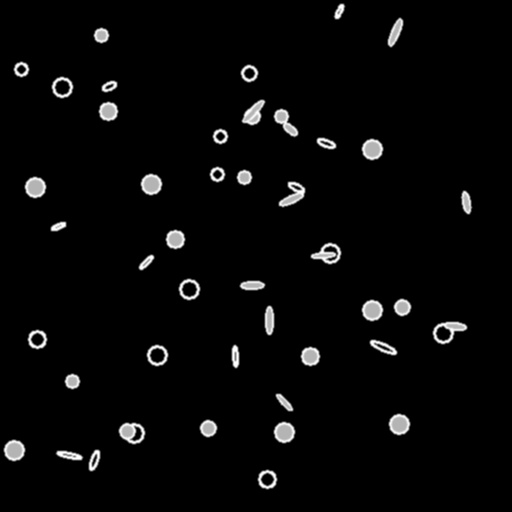pseudomonas: (241, 98, 265, 124), (386, 17, 404, 47), (370, 339, 396, 355), (279, 191, 303, 207), (275, 393, 293, 411), (281, 121, 299, 137), (287, 180, 305, 194), (57, 450, 81, 460), (316, 137, 336, 149), (88, 450, 100, 470), (461, 192, 471, 212), (139, 255, 153, 269), (333, 3, 345, 19), (101, 80, 117, 92), (241, 281, 263, 289), (444, 322, 466, 330), (50, 221, 66, 231), (266, 307, 272, 333), (312, 252, 334, 258), (232, 346, 238, 366)
synechocystis: (180, 280, 198, 298), (5, 441, 23, 459), (125, 424, 143, 442), (363, 301, 381, 319), (390, 415, 408, 433), (53, 78, 71, 96), (142, 175, 160, 193), (148, 346, 166, 364), (321, 244, 339, 262), (26, 178, 44, 196), (363, 140, 381, 158), (275, 423, 293, 441), (434, 324, 452, 342), (259, 471, 275, 487), (167, 231, 183, 247), (100, 103, 116, 119), (29, 331, 45, 347), (302, 348, 318, 364), (245, 109, 259, 123), (201, 421, 215, 435), (120, 424, 134, 438), (395, 300, 409, 314), (242, 66, 256, 80), (214, 130, 226, 142), (275, 110, 287, 122), (95, 29, 107, 41), (15, 63, 27, 75), (211, 168, 223, 180), (238, 171, 250, 183), (66, 375, 78, 387)
